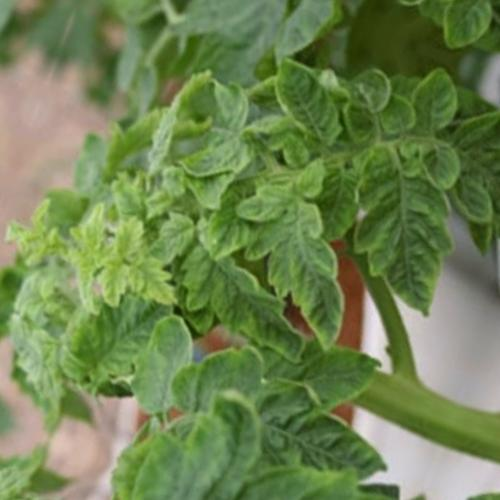Tomato leaf mosaic virus: (227, 169, 393, 354), (320, 143, 483, 324), (45, 260, 181, 415), (161, 239, 324, 363), (248, 388, 400, 500), (252, 52, 363, 153), (121, 306, 213, 423), (188, 174, 267, 276), (173, 113, 261, 198), (399, 68, 472, 146)
